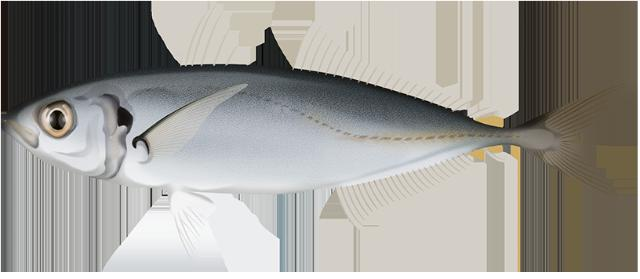Mulut: (0, 95, 48, 162)
Sirip Anal: (330, 141, 486, 229)
Sirip Dada: (132, 84, 262, 166)
Sirip Ekor: (524, 68, 636, 208)
Sirip Perut: (161, 182, 223, 276)
Sirip Punggung: (181, 4, 499, 120)
